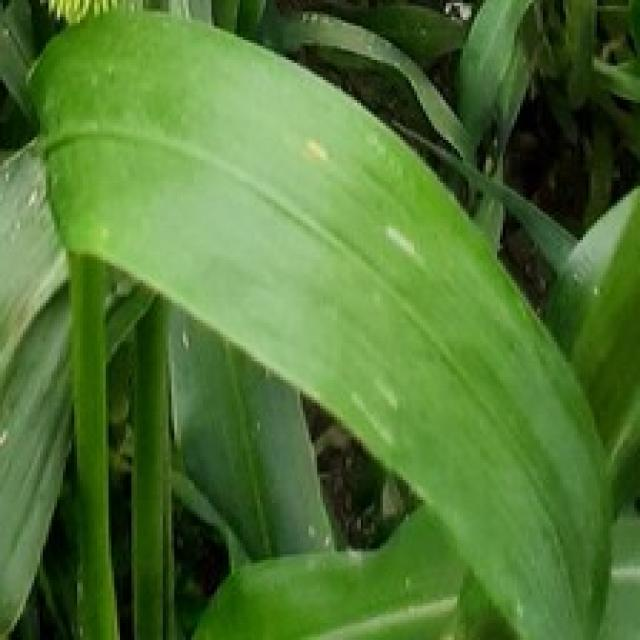Corn: (23, 6, 614, 637), (0, 134, 74, 637)
